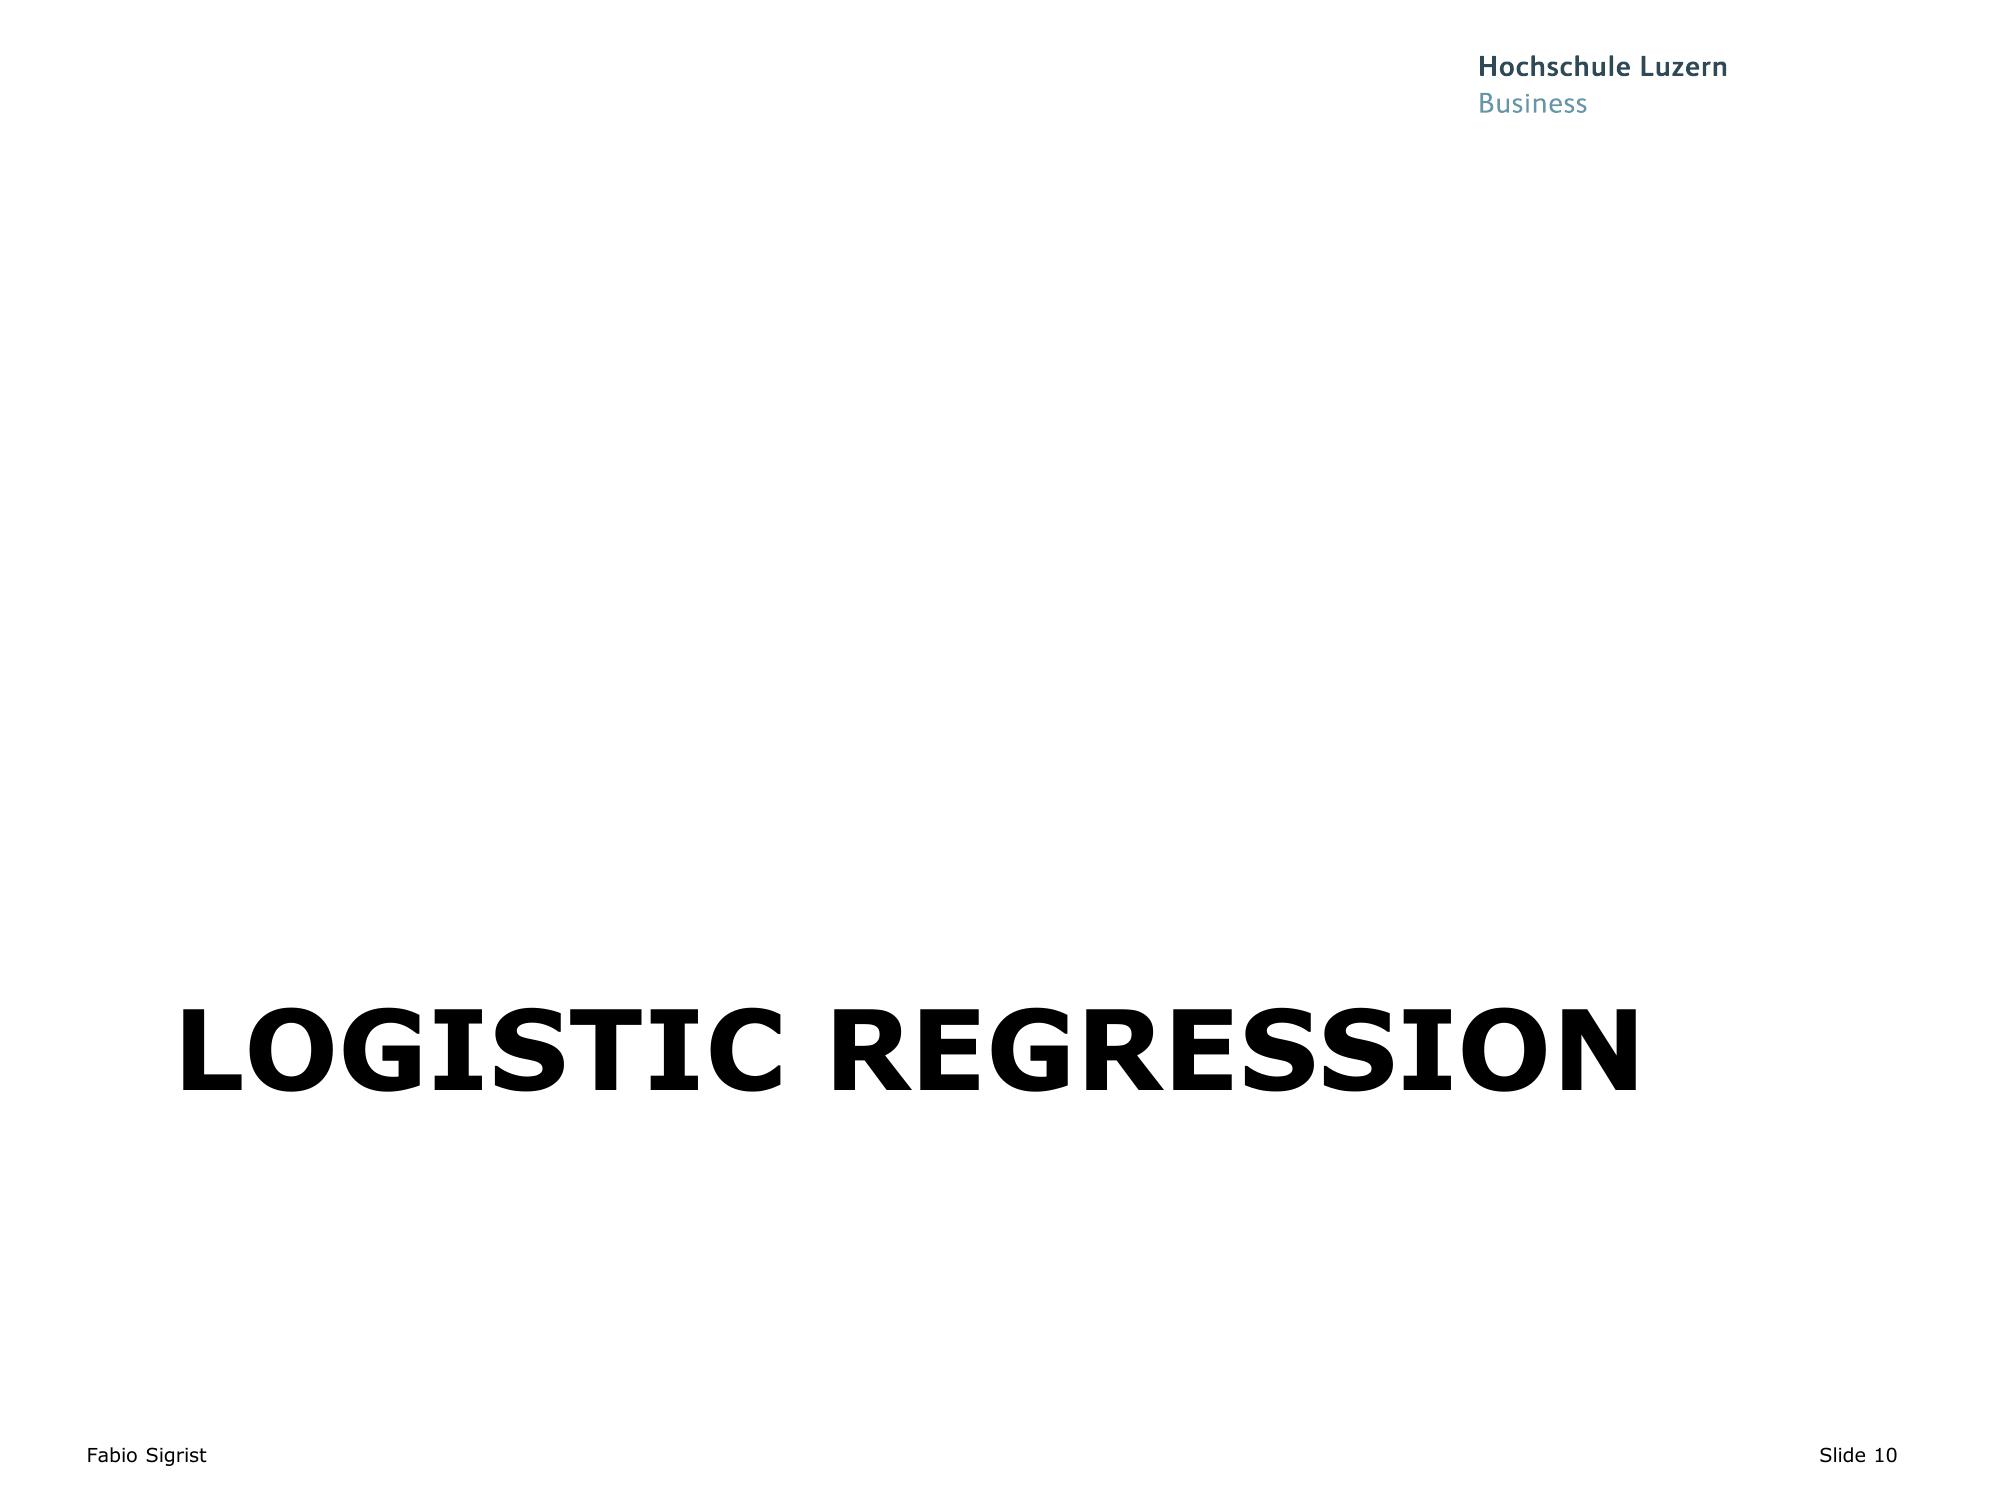Title: (143, 988, 1652, 1112)
